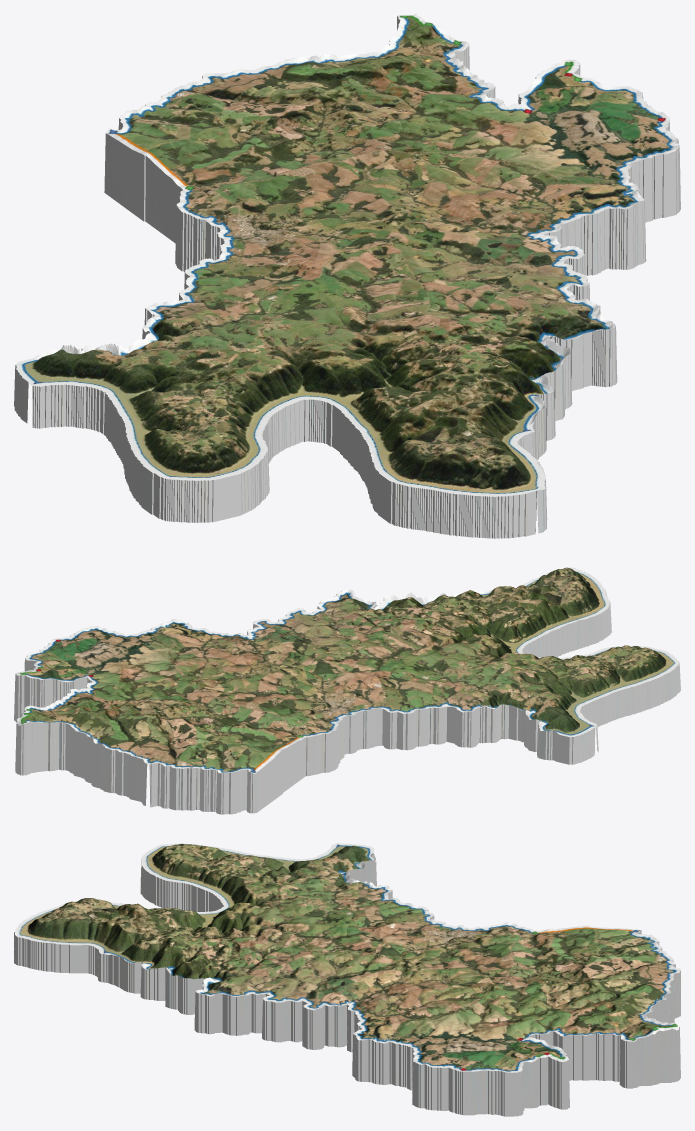
The picture shows the model from 3 angles, top to bottom: view 1: azimuth 30°, elevation 25°; view 2: azimuth 150°, elevation 25°; view 3: azimuth 270°, elevation 25°; orthographic projection. The views are drawn at different scales.
Size of the model in its own units: 1 by 0.1011 by 1.15.
Materials: 1 (1 with a texture image).
